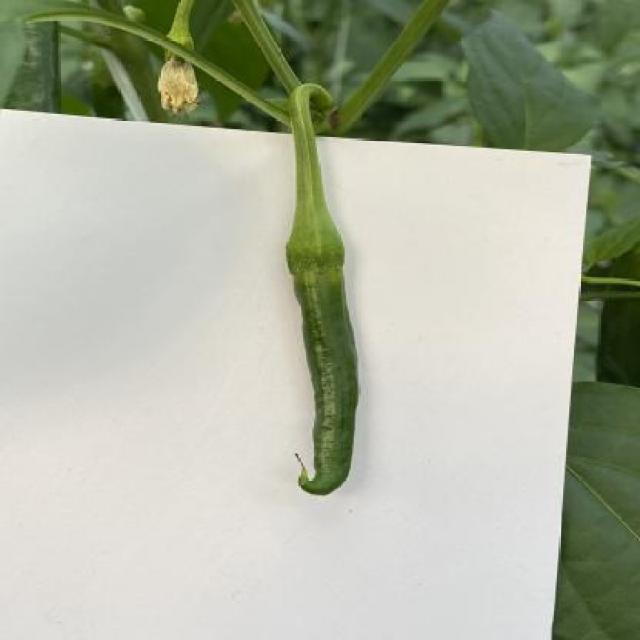green chilli: (294, 271, 360, 495)
